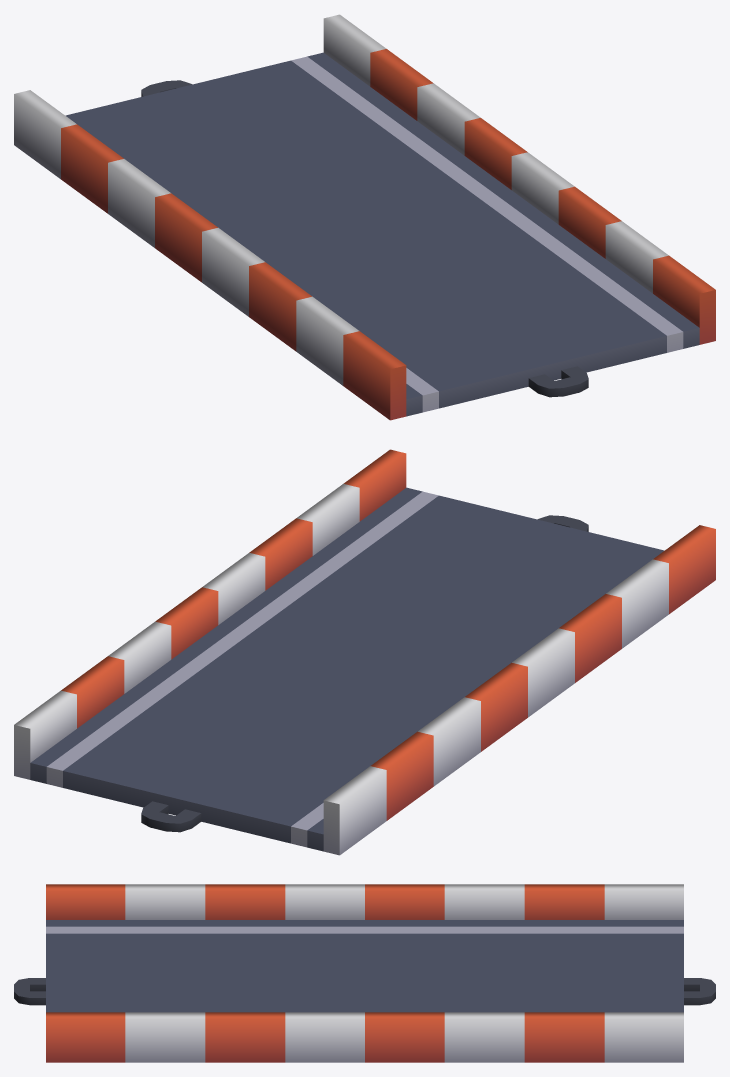
The model's file is track-road-wide-straight.glb.
3 renders of one model, top to bottom at view 1: azimuth 30°, elevation 25°; view 2: azimuth 150°, elevation 25°; view 3: azimuth 270°, elevation 25°, orthographic. The views are drawn at different scales.
Visible parts, largest first — view 1: track-road-wide-straight; view 2: track-road-wide-straight; view 3: track-road-wide-straight.
Part boxes in pixels (<box>): track-road-wide-straight: <box>14,14,715,420</box>; track-road-wide-straight: <box>14,449,715,855</box>; track-road-wide-straight: <box>14,884,715,1062</box>.
Bounding box in the file's own units: 2 × 0.3 × 4.4.
